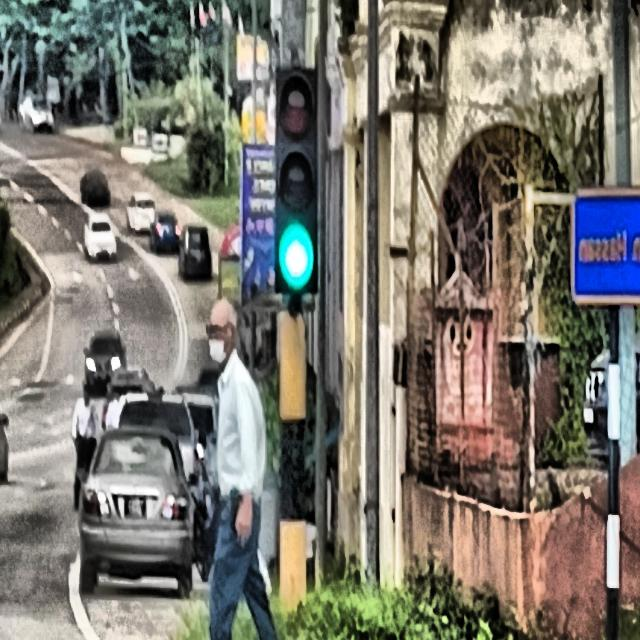green: (274, 64, 318, 292)
